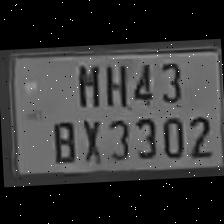0: (156, 110, 186, 158)
2: (183, 109, 212, 158)
3: (102, 111, 132, 161), (154, 55, 183, 104), (129, 110, 157, 160)
4: (126, 56, 155, 105)
B: (48, 115, 78, 164)
H: (99, 57, 128, 107)
M: (70, 58, 103, 109)
X: (76, 112, 104, 162)
